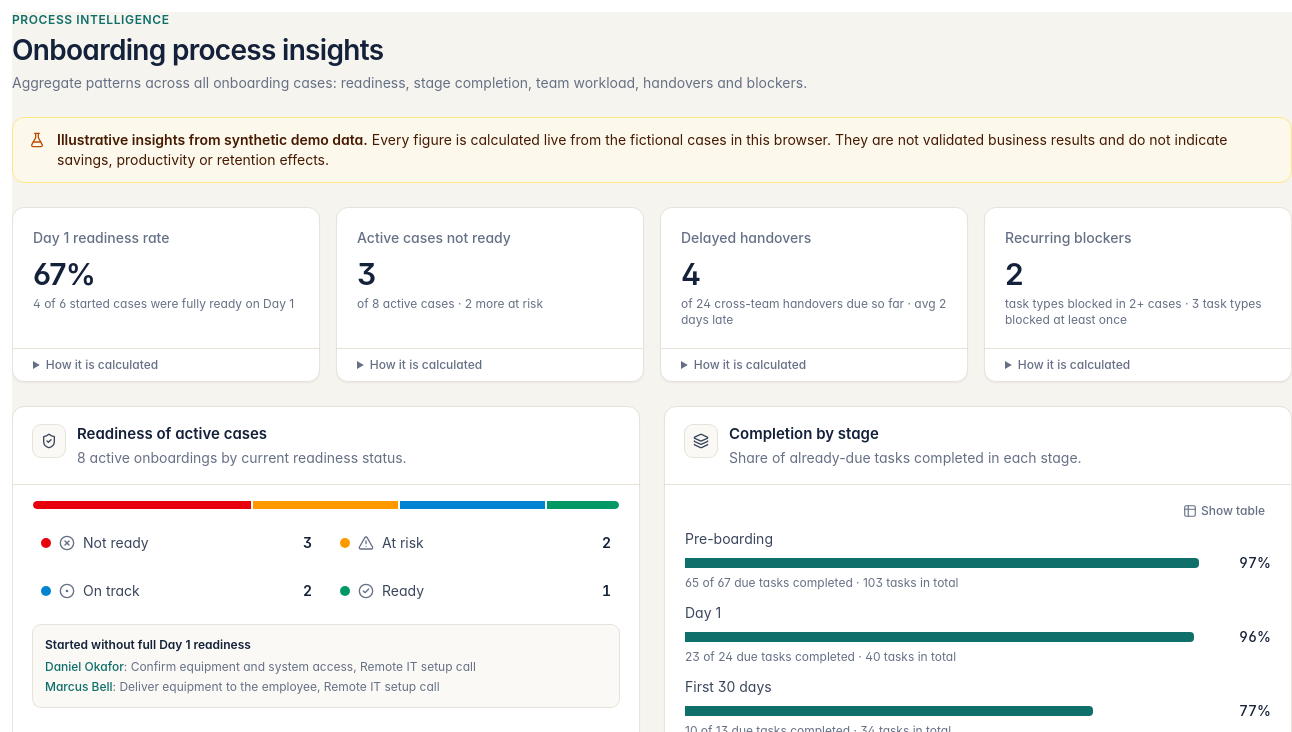
Test case: InsightsView › offers a table view for each chart
What coordinates should you click on to do the following:
click the button "Show table"
I would click on:
 (1224, 511)
Its box is [1177,501,1271,521].
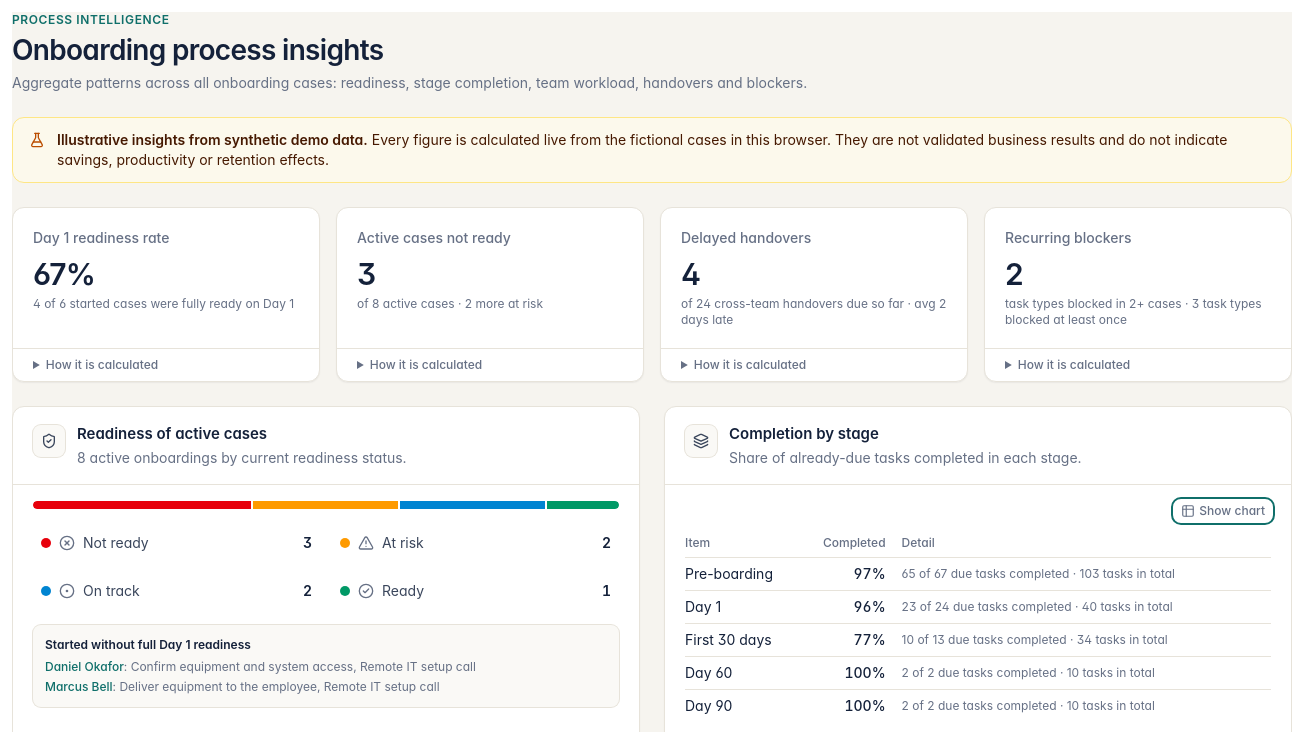
Expected: the column heading "Pre-boarding" is shown, [685,558,802,590]
Expected: the table is shown, [685,529,1271,722]
